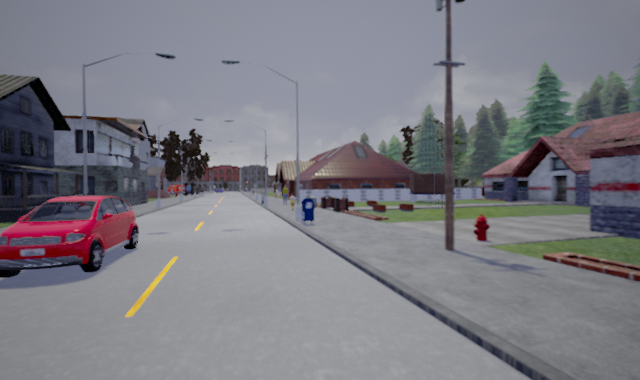vehicle: (1, 193, 138, 277)
